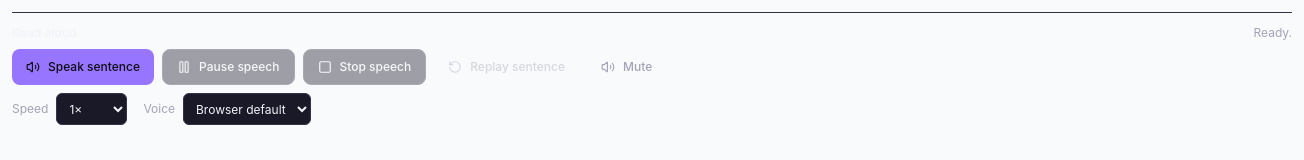
Scenario: DraftSpeech › speaks the exact text in the draft when Speak is pressed
Click the button "Speak sentence": point(83, 67) top-left (12, 49), bottom-right (154, 85)
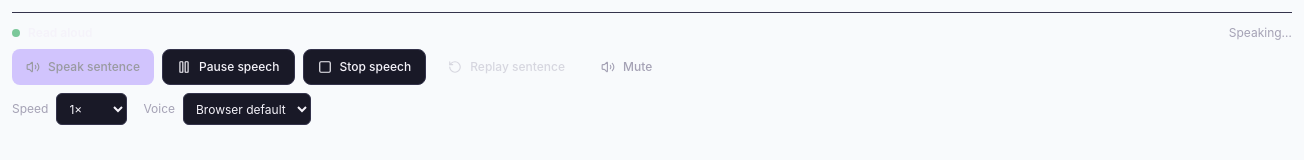
Expected: the text "Speaking…" is shown, top-left (1229, 25), bottom-right (1292, 41)
Expected: the button "Speak sentence" is disabled, top-left (12, 49), bottom-right (154, 85)
